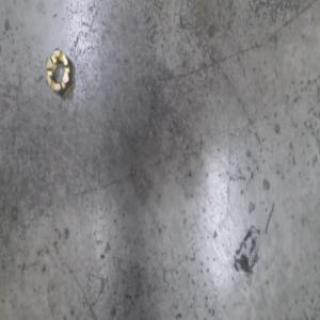Nuttrack_idkeyframe: (44, 45, 72, 98)
